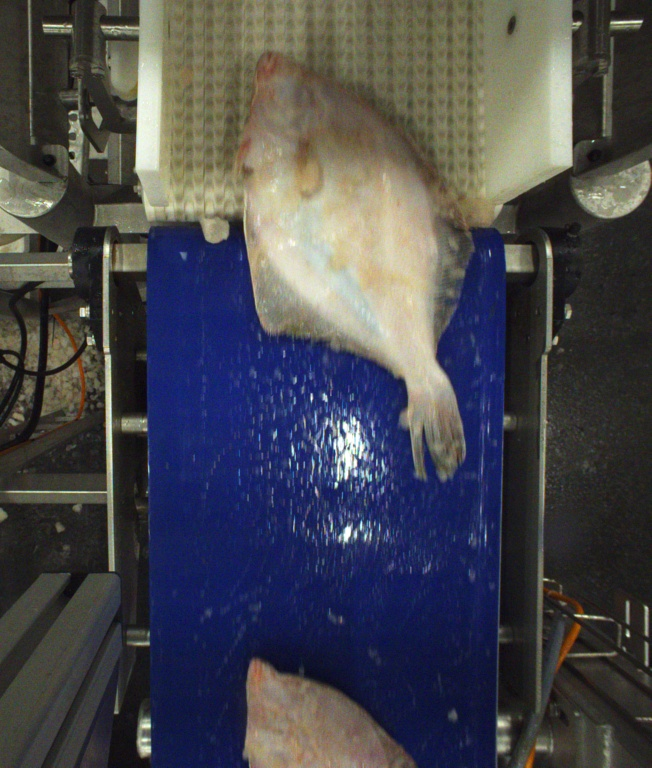PLE: (245, 52, 480, 481)
